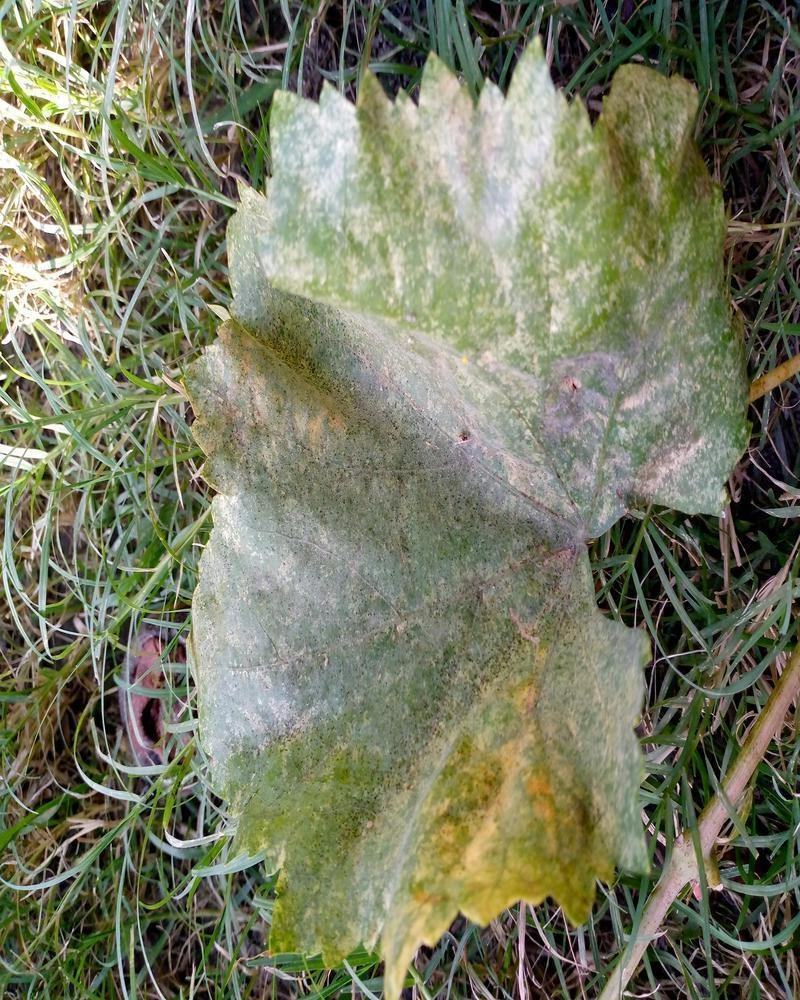Powdery-Mildew: (211, 491, 484, 746), (223, 96, 404, 443), (583, 181, 748, 502), (370, 736, 547, 986), (376, 84, 563, 289), (363, 332, 588, 502), (543, 599, 665, 820), (299, 792, 417, 918), (533, 266, 596, 329), (517, 515, 580, 578), (472, 663, 535, 726)
